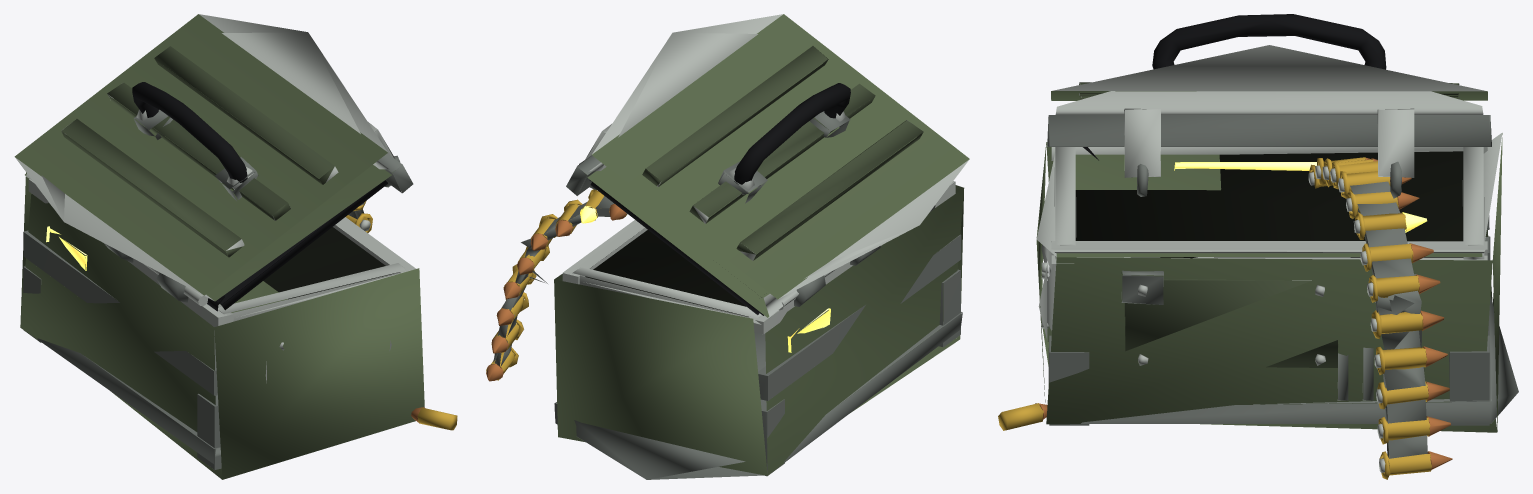
File: ammo.glb
The picture shows the model from 3 angles, left to right: view 1: azimuth 30°, elevation 25°; view 2: azimuth 150°, elevation 25°; view 3: azimuth 270°, elevation 25°; orthographic projection. The views are drawn at different scales.
Visible parts, largest first — view 1: cuerpo, tapa, tapa_nervio_3, tapa_nervio_1, interior, nervio_trasero, tapa_nervio_2, faldon_bajo, asa, marco_3, tapa_junta_3, esquinera_3 (+7 smaller); view 2: tapa, cuerpo, faldon_bajo, tapa_nervio_3, tapa_nervio_1, interior, nervio_trasero, tapa_nervio_2, asa, marco_4, marco_1, esquinera_3 (+6 smaller); view 3: cuerpo, interior, tapa, tapa_faldon, faldon_bajo, placa_frente, asa, marco_1, garfio_1, garfio_2, marco_2, marco_4 (+23 smaller).
Part boxes in pixels (bbox=[...]): cuerpo: bbox=[20, 172, 424, 479]; tapa: bbox=[14, 14, 395, 301]; tapa_nervio_3: bbox=[61, 119, 244, 257]; tapa_nervio_1: bbox=[154, 46, 338, 184]; interior: bbox=[263, 225, 393, 299]; nervio_trasero: bbox=[23, 230, 217, 395]; tapa_nervio_2: bbox=[107, 82, 291, 220]; faldon_bajo: bbox=[37, 330, 220, 463]; asa: bbox=[132, 82, 247, 182]; marco_3: bbox=[218, 263, 405, 321]; tapa_junta_3: bbox=[219, 180, 388, 310]; esquinera_3: bbox=[197, 393, 221, 469]; tapa: bbox=[584, 14, 969, 317]; cuerpo: bbox=[554, 185, 964, 475]; faldon_bajo: bbox=[554, 312, 962, 479]; tapa_nervio_3: bbox=[736, 120, 923, 260]; tapa_nervio_1: bbox=[642, 46, 828, 186]; interior: bbox=[585, 230, 748, 316]; nervio_trasero: bbox=[758, 234, 961, 400]; tapa_nervio_2: bbox=[689, 83, 875, 223]; asa: bbox=[734, 83, 850, 184]; marco_4: bbox=[572, 267, 761, 321]; marco_1: bbox=[562, 220, 647, 284]; esquinera_3: bbox=[939, 269, 960, 347]; cuerpo: bbox=[1036, 132, 1502, 432]; interior: bbox=[1075, 151, 1463, 258]; tapa: bbox=[1051, 45, 1487, 114]; tapa_faldon: bbox=[1047, 115, 1491, 146]; faldon_bajo: bbox=[1081, 295, 1518, 423]; placa_frente: bbox=[1124, 279, 1338, 367]; asa: bbox=[1152, 14, 1386, 69]; marco_1: bbox=[1051, 241, 1487, 263]; garfio_1: bbox=[1124, 108, 1160, 177]; garfio_2: bbox=[1377, 108, 1414, 177]; marco_2: bbox=[1051, 147, 1487, 160]; marco_4: bbox=[1462, 147, 1484, 259].
Bounding box in the file's own units: 0.9277 × 0.8225 × 0.9867.
